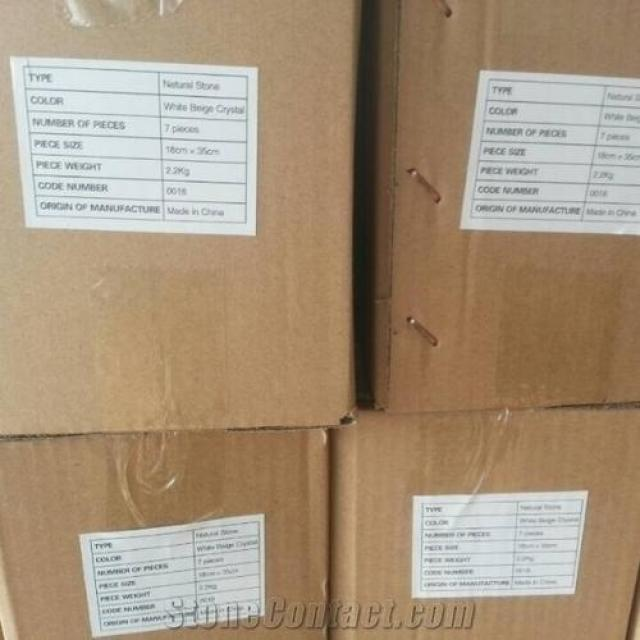box: (1, 1, 362, 439), (356, 1, 639, 412), (327, 404, 639, 639), (0, 423, 330, 639), (630, 579, 639, 635)
